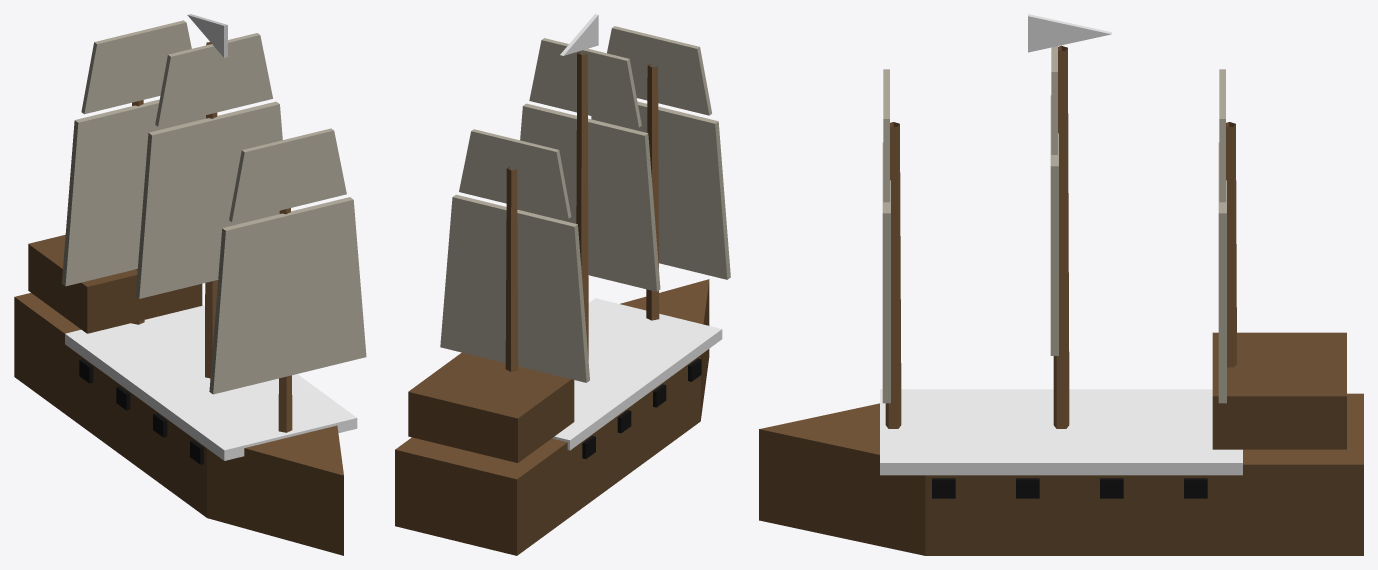
File: Frigate.glb
The picture shows the model from 3 angles, left to right: view 1: azimuth 30°, elevation 25°; view 2: azimuth 150°, elevation 25°; view 3: azimuth 270°, elevation 25°; orthographic projection. The views are drawn at different scales.
Parts seen in each view (by area): view 1: Units_Frigate; view 2: Units_Frigate; view 3: Units_Frigate.
Part boxes in pixels (x1,y1,x2,y2): Units_Frigate: [14, 14, 366, 555]; Units_Frigate: [395, 14, 730, 555]; Units_Frigate: [759, 14, 1363, 555].
Size of the model in its own units: 0.12 by 0.332 by 0.36.
